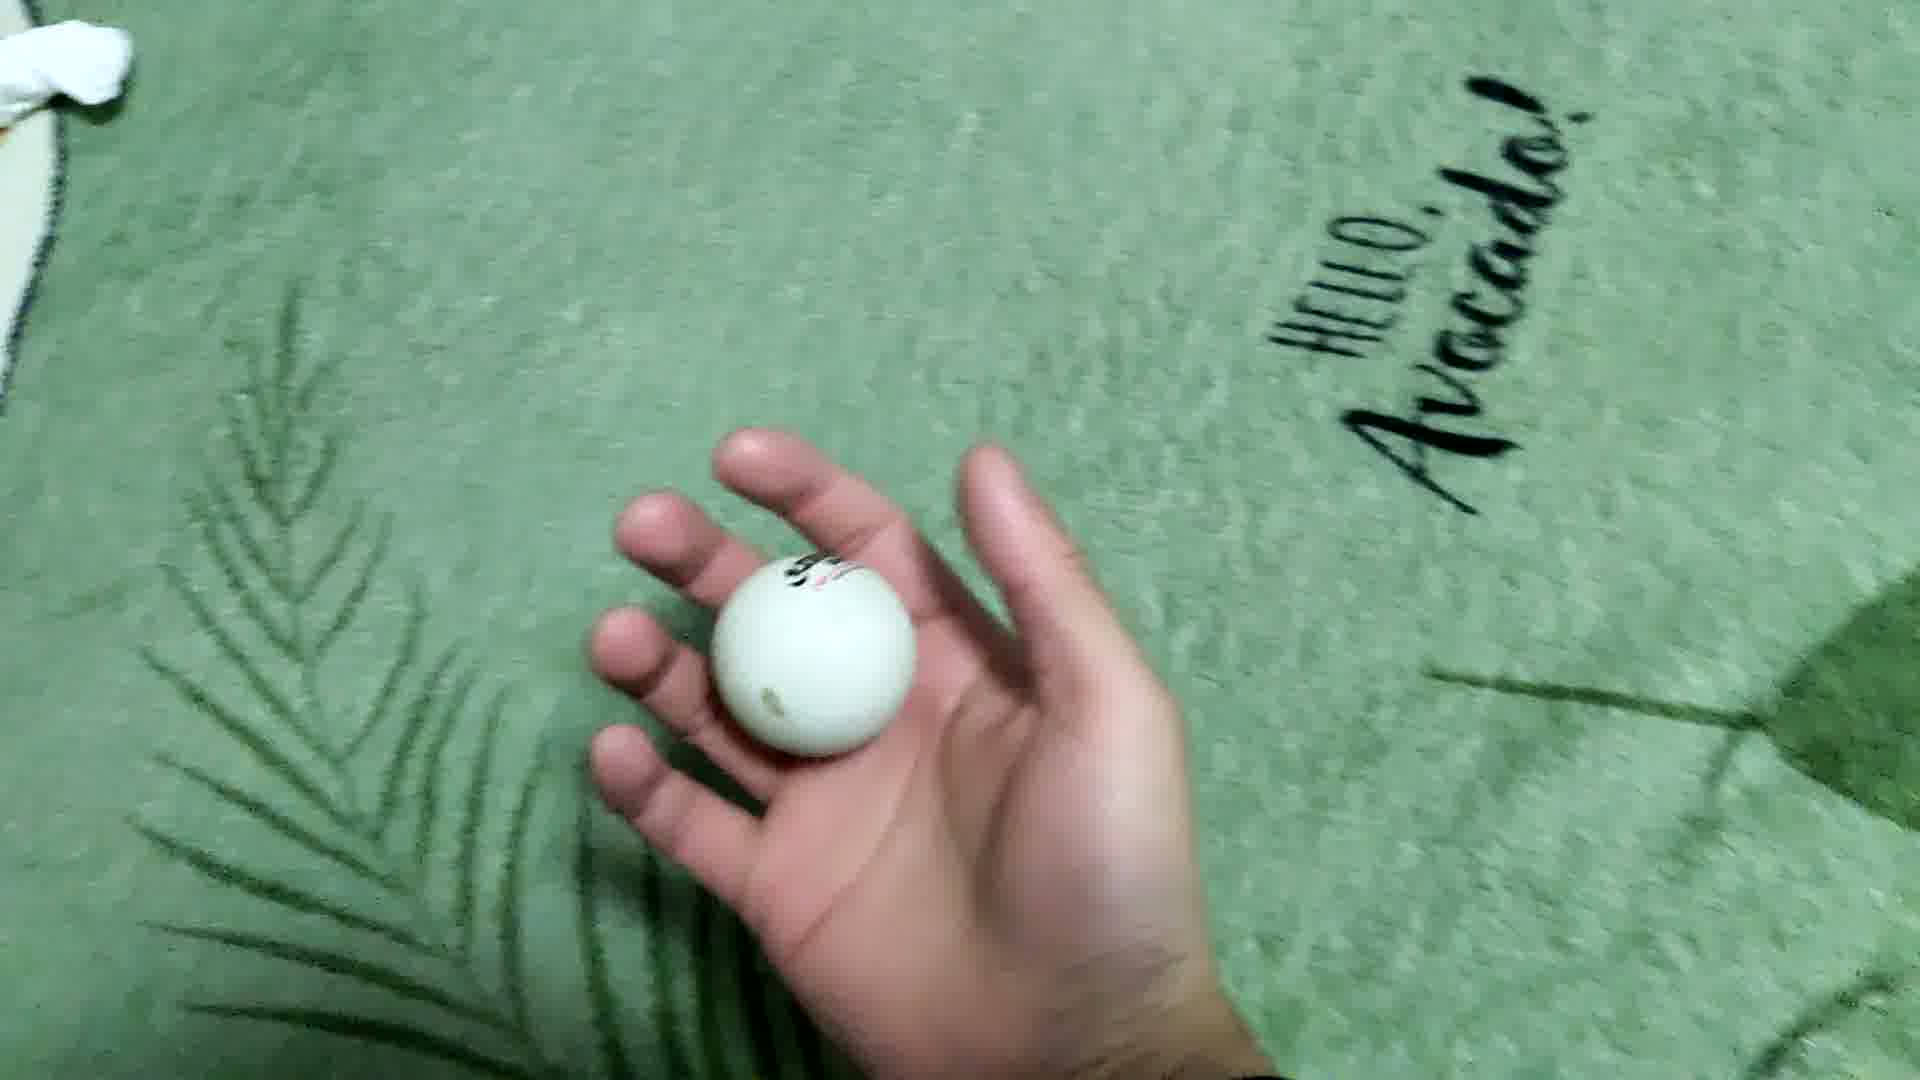Ball: (709, 556, 916, 758)
